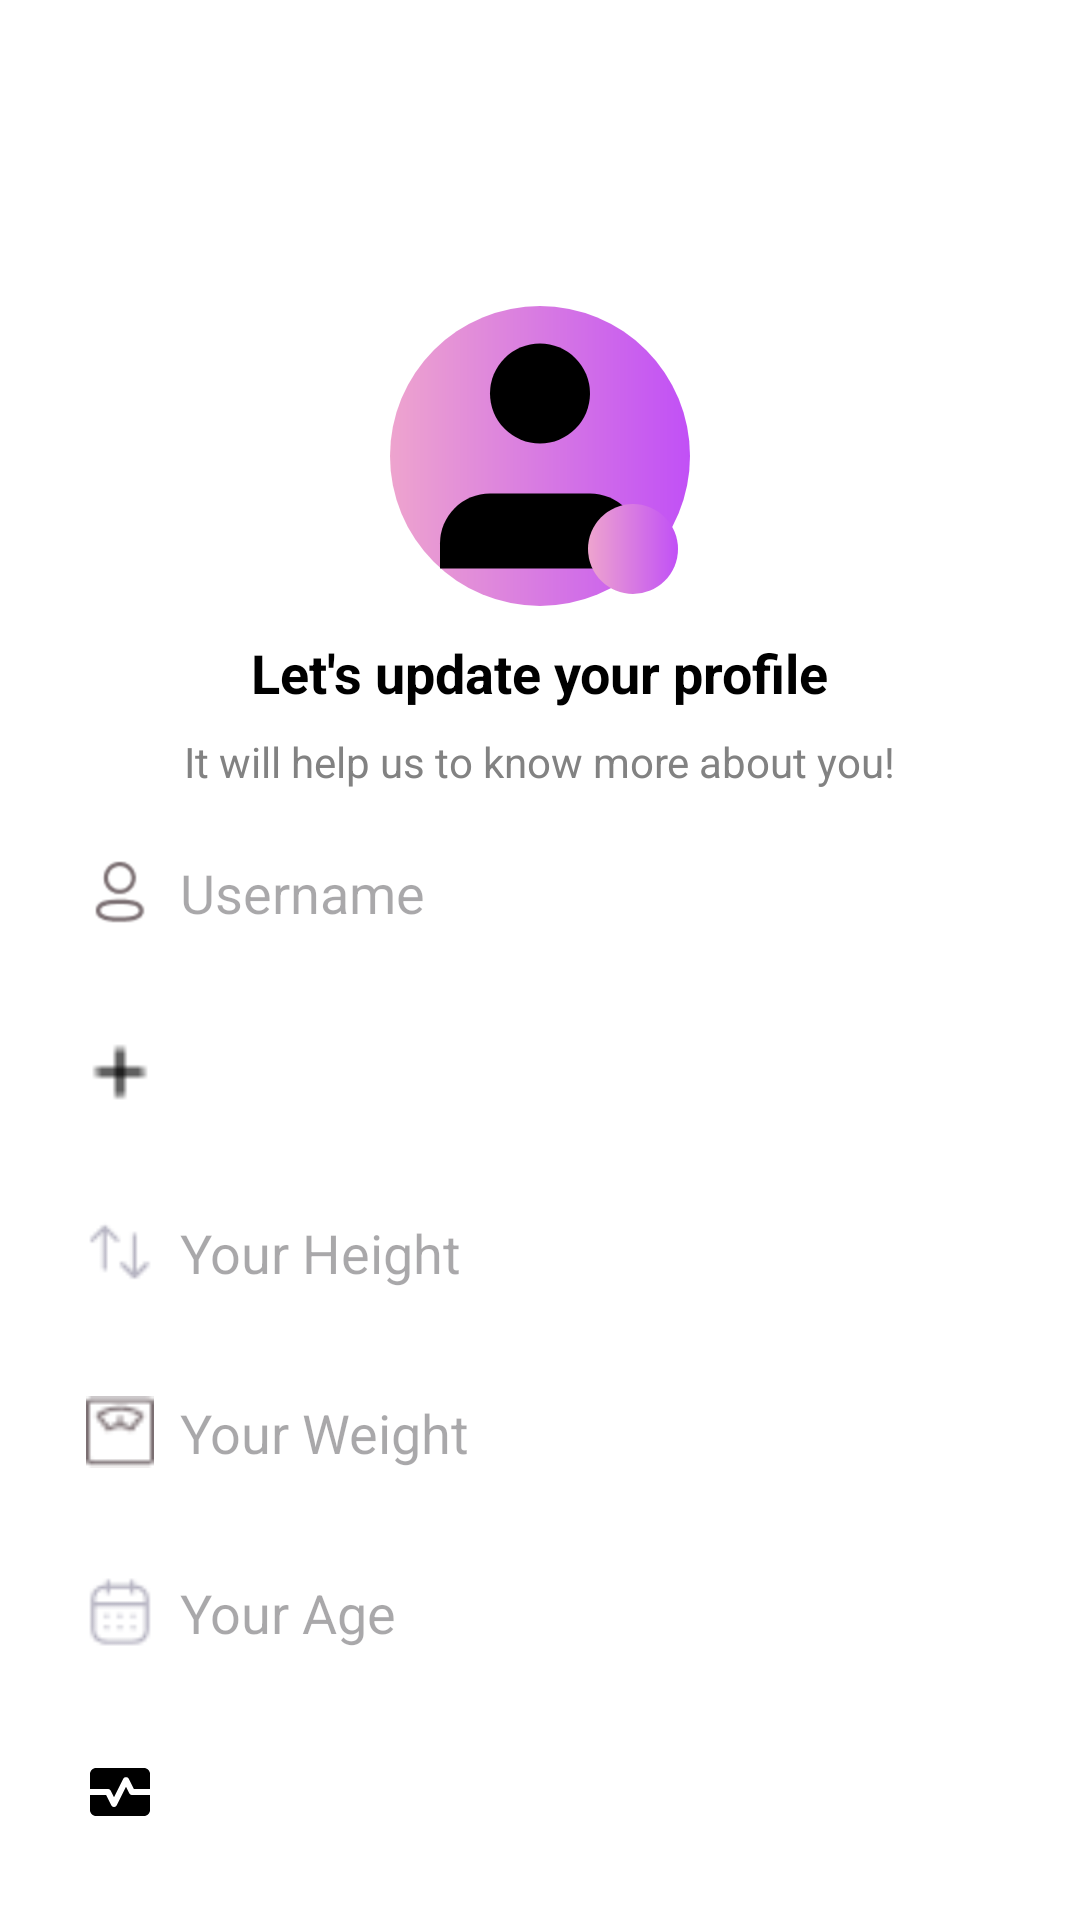

Icons on this 1080x1920 Android screen, each with the point to tap as [x,y]:
add: [120,1072]
calendar: [120,1612]
heart: [120,1792]
scale: [120,1431]
swap: [119,1252]
